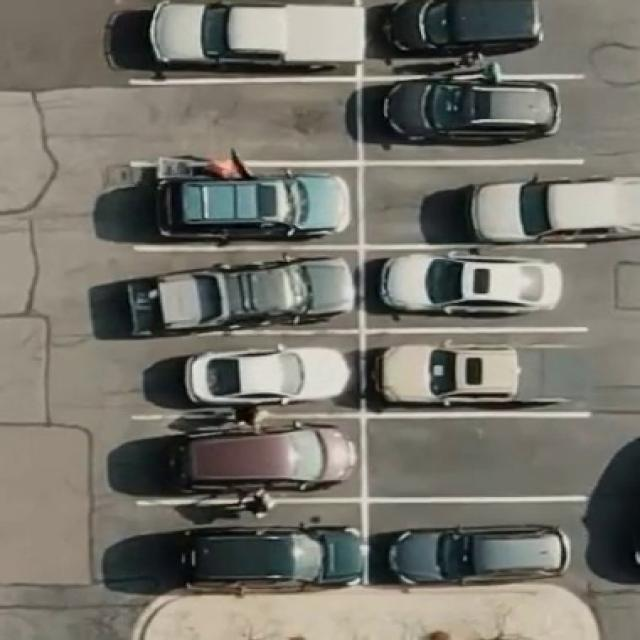empty: (374, 426, 584, 491), (136, 88, 349, 152)
notEmpty: (141, 510, 355, 584), (372, 507, 590, 579), (368, 168, 583, 240), (136, 422, 354, 492), (137, 171, 354, 240), (138, 340, 353, 409), (372, 339, 594, 405), (133, 256, 354, 322), (136, 5, 348, 71), (370, 256, 577, 323)
